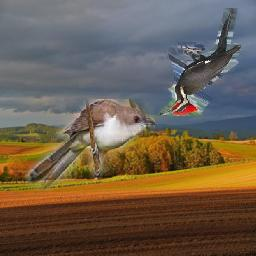Cuckoo: (25, 99, 155, 191)
Woodpecker: (157, 8, 241, 116)
